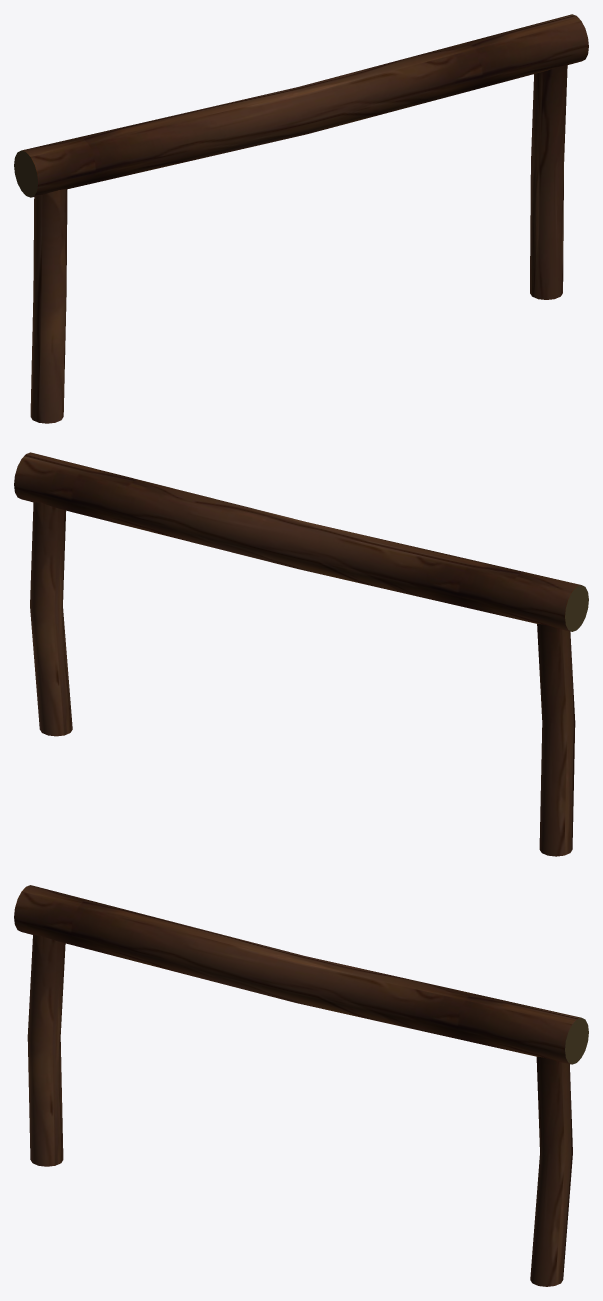
The model's file is ApoioCavalo.fbx.
3 views of the same model, one above another, from view 1: azimuth 30°, elevation 25°; view 2: azimuth 150°, elevation 25°; view 3: azimuth 330°, elevation 25° (orthographic).
Visible parts, largest first — view 1: ApoioCavalo; view 2: ApoioCavalo; view 3: ApoioCavalo.
Boxes of the visible parts, x1,y1,x2,y2 form: ApoioCavalo: (14,14,588,423); ApoioCavalo: (14,452,588,856); ApoioCavalo: (14,885,588,1286).
Size of the model in its own units: 220 by 103 by 18.36.
